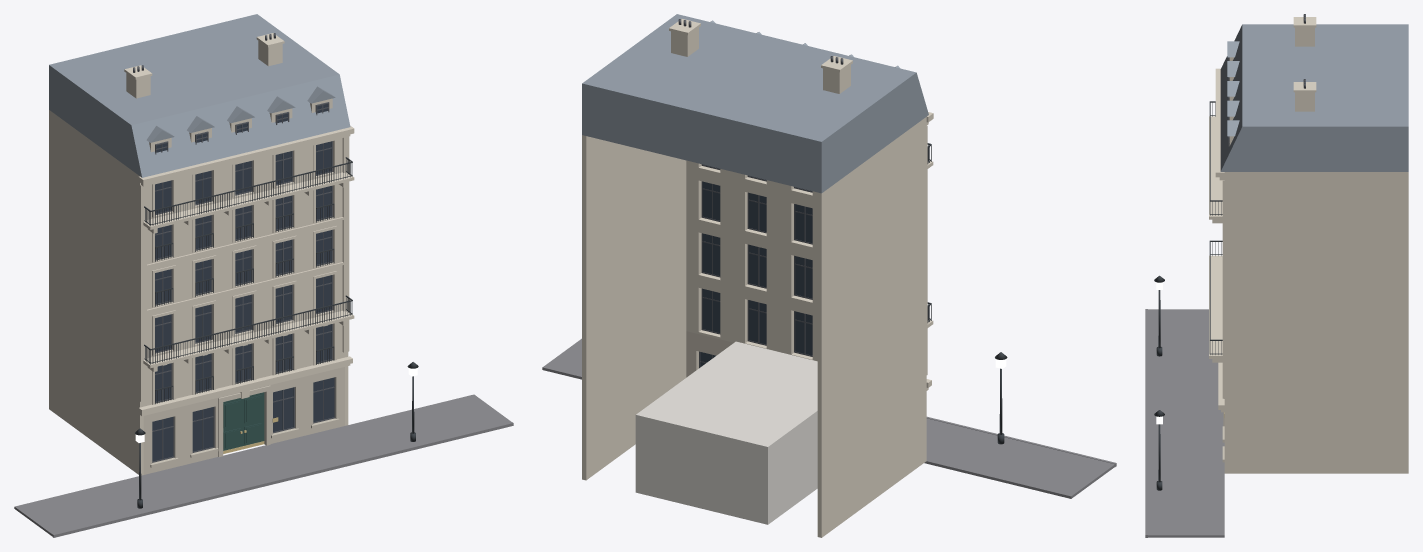
Rendered from devis_building.glb.
3 renders of one model, left to right at view 1: azimuth 30°, elevation 25°; view 2: azimuth 150°, elevation 25°; view 3: azimuth 270°, elevation 25°, orthographic. The views are drawn at different scales.
Visible parts, largest first — view 1: facade_stone, facade_roof, street_pavement, facade_windows, facade_railings, facade_base, facade_frames, door_right, door_left; view 2: facade_stone, facade_roof, hall_walls, street_pavement, facade_windows, facade_frames, facade_base; view 3: facade_stone, facade_roof, street_pavement, facade_railings, street_iron.
Boxes of the visible parts, left/top/right/bottom form: facade_stone: left=49, top=33, right=354, bottom=475; facade_roof: left=49, top=14, right=350, bottom=177; street_pavement: left=14, top=394, right=513, bottom=537; facade_windows: left=152, top=102, right=333, bottom=461; facade_railings: left=144, top=157, right=352, bottom=404; facade_base: left=143, top=367, right=344, bottom=474; facade_frames: left=133, top=33, right=335, bottom=462; door_right: left=242, top=392, right=264, bottom=449; door_left: left=223, top=398, right=242, bottom=453; facade_stone: left=582, top=19, right=933, bottom=537; facade_roof: left=582, top=14, right=928, bottom=193; hall_walls: left=635, top=341, right=817, bottom=524; street_pavement: left=542, top=338, right=1116, bottom=498; facade_windows: left=700, top=164, right=812, bottom=367; facade_frames: left=678, top=19, right=843, bottom=368; facade_base: left=686, top=331, right=733, bottom=377; facade_stone: left=1209, top=17, right=1408, bottom=473; facade_roof: left=1220, top=24, right=1408, bottom=171; street_pavement: left=1145, top=309, right=1224, bottom=537; facade_railings: left=1209, top=101, right=1222, bottom=354; street_iron: left=1154, top=275, right=1164, bottom=490.
Size of the model in its own units: 32 by 24.82 by 15.75.
